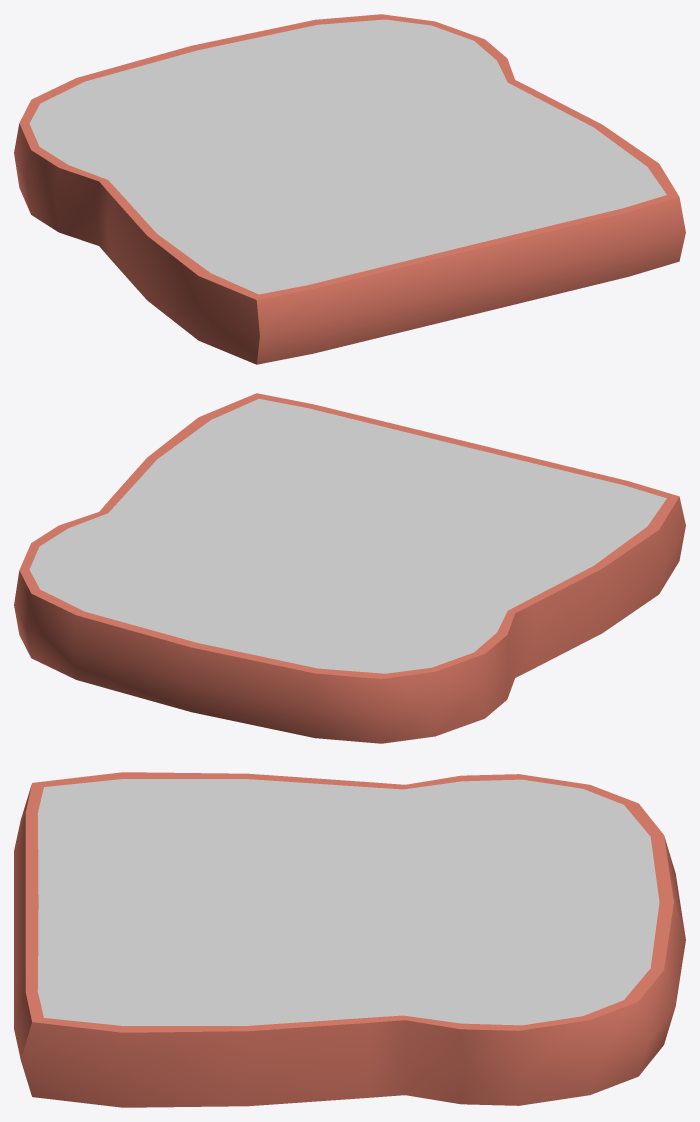
The model's file is FeelToasterToast.fbx.
The picture shows the model from 3 angles, top to bottom: view 1: azimuth 30°, elevation 25°; view 2: azimuth 150°, elevation 25°; view 3: azimuth 270°, elevation 25°; orthographic projection. The views are drawn at different scales.
Visible parts, largest first — view 1: Cube; view 2: Cube; view 3: Cube.
Boxes of the visible parts, bbox=[...] form: Cube: bbox=[14, 14, 685, 364]; Cube: bbox=[14, 393, 685, 743]; Cube: bbox=[14, 772, 685, 1107].
Bounding box in the file's own units: 193 × 25.65 × 208.
